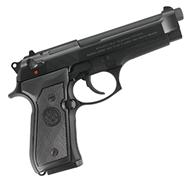gun: (1, 1, 184, 183)
